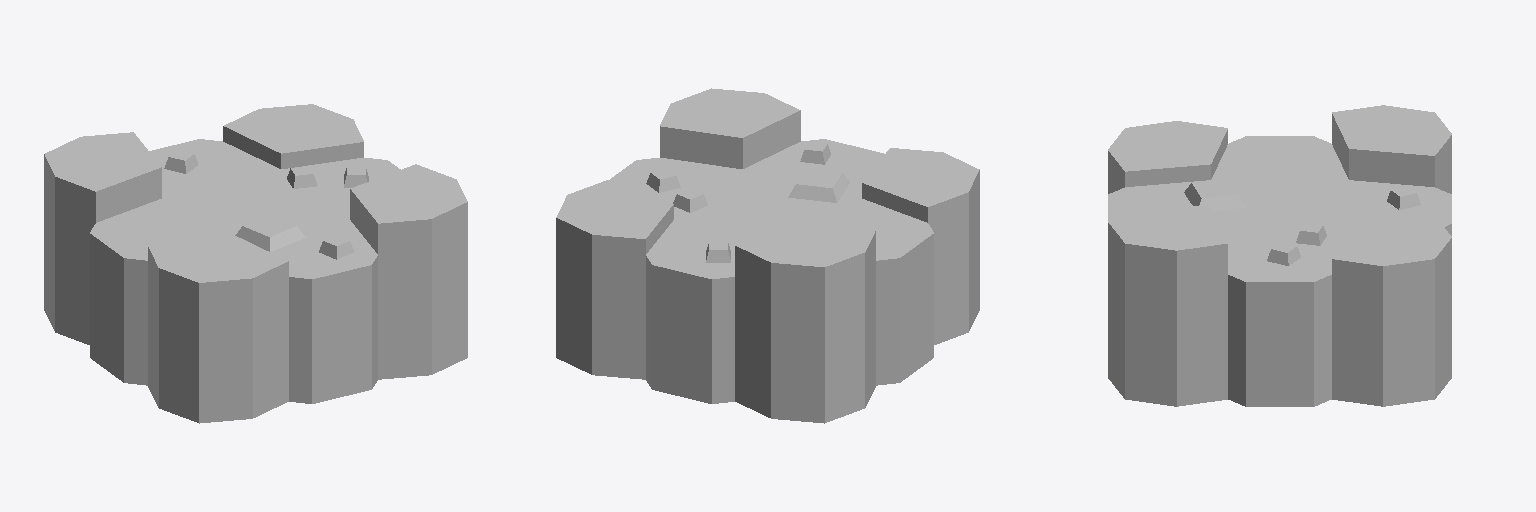
The model's file is rocks.obj.
The picture shows the model from 3 angles: view 1: azimuth 30°, elevation 25°; view 2: azimuth 150°, elevation 25°; view 3: azimuth 270°, elevation 25°; orthographic projection.
Parts seen in each view (by area): view 1: rocks; view 2: rocks; view 3: rocks.
Part boxes in pixels (x1,y1,x2,y2): rocks: (44, 104, 467, 423); rocks: (556, 88, 979, 423); rocks: (1108, 105, 1451, 406).
Size of the model in its own units: 1 by 0.5 by 1.